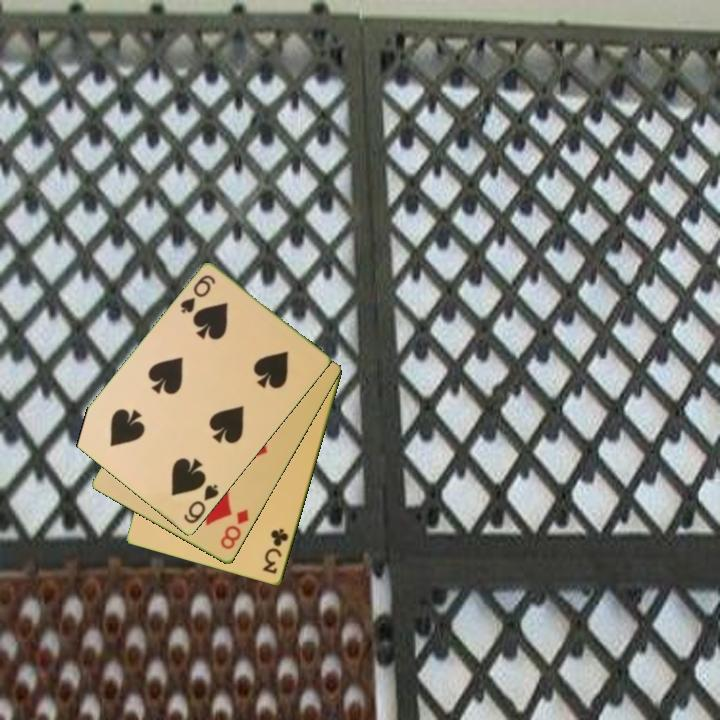3c: (259, 525, 291, 577)
6s: (180, 481, 222, 527), (177, 272, 219, 317)
8d: (217, 506, 252, 553)
